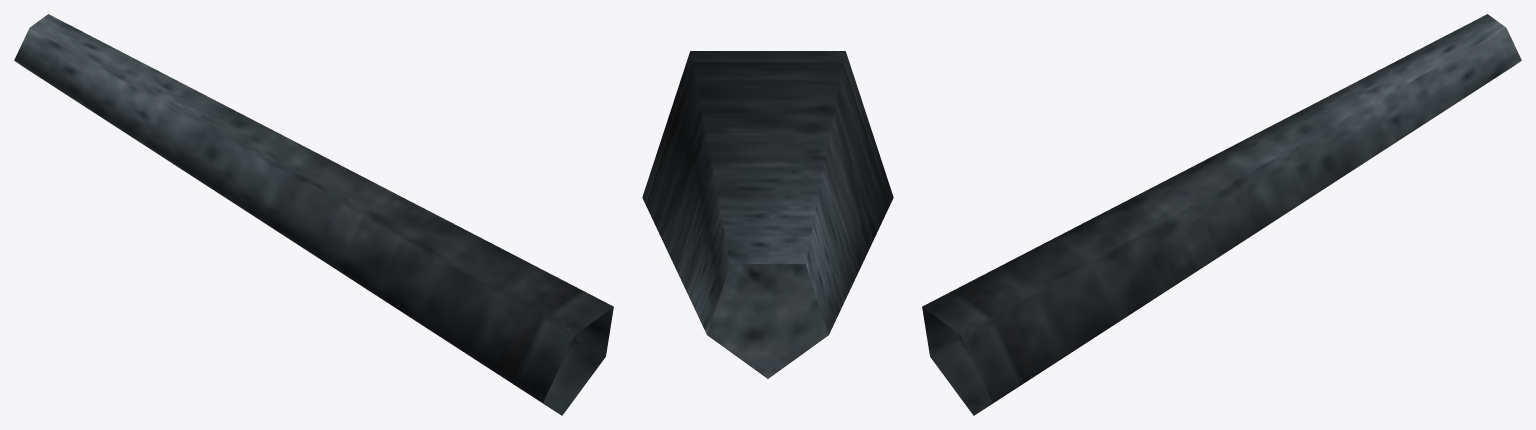
Rendered from wreck02.FBX.
3 renders of one model, left to right at view 1: azimuth 30°, elevation 25°; view 2: azimuth 150°, elevation 25°; view 3: azimuth 270°, elevation 25°, orthographic. The views are drawn at different scales.
Parts seen in each view (by area): view 1: wreck02; view 2: wreck02; view 3: wreck02.
Part boxes in pixels (<box>): wreck02: <box>14,14,613,415</box>; wreck02: <box>642,51,893,378</box>; wreck02: <box>922,14,1521,415</box>.
Bounding box in the file's own units: 3.72 × 2.77 × 5.64.
